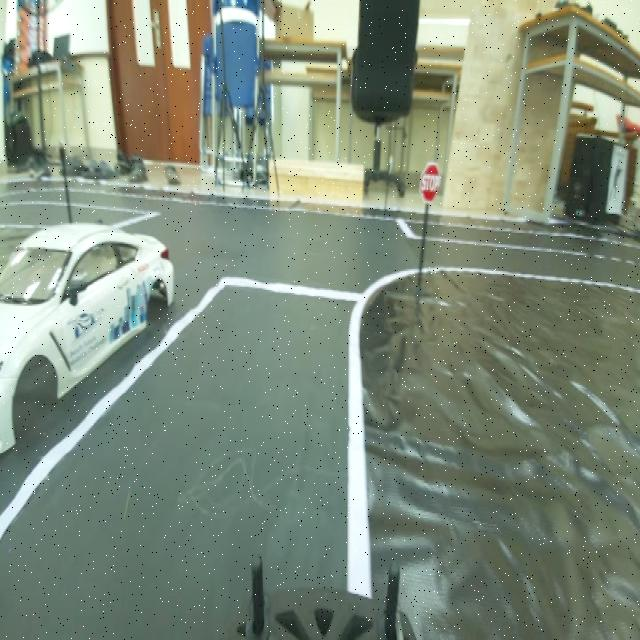car: (0, 161, 178, 454)
stop: (407, 146, 452, 212)
